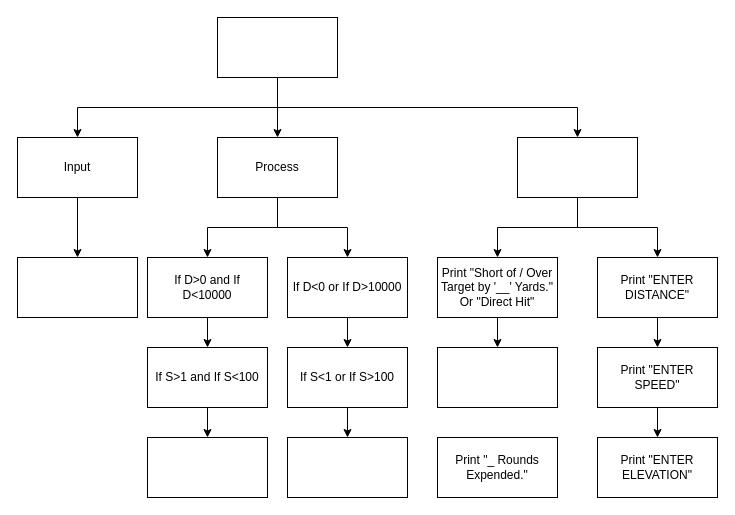
Image size: 735x515. Some labels were removed from this diagram. The centre of each missing label's shape, as x and y in pixels:
Enter Speed, Distance, and Elevation: pixel 77 287
GUNER1 Program: pixel 277 47
If E<0 and If E>89: pixel 347 467
If E>0 and If E<89: pixel 207 467
Output: pixel 577 167
Print "Target Destroyed!" or "The Target Destroyed You!": pixel 497 377
